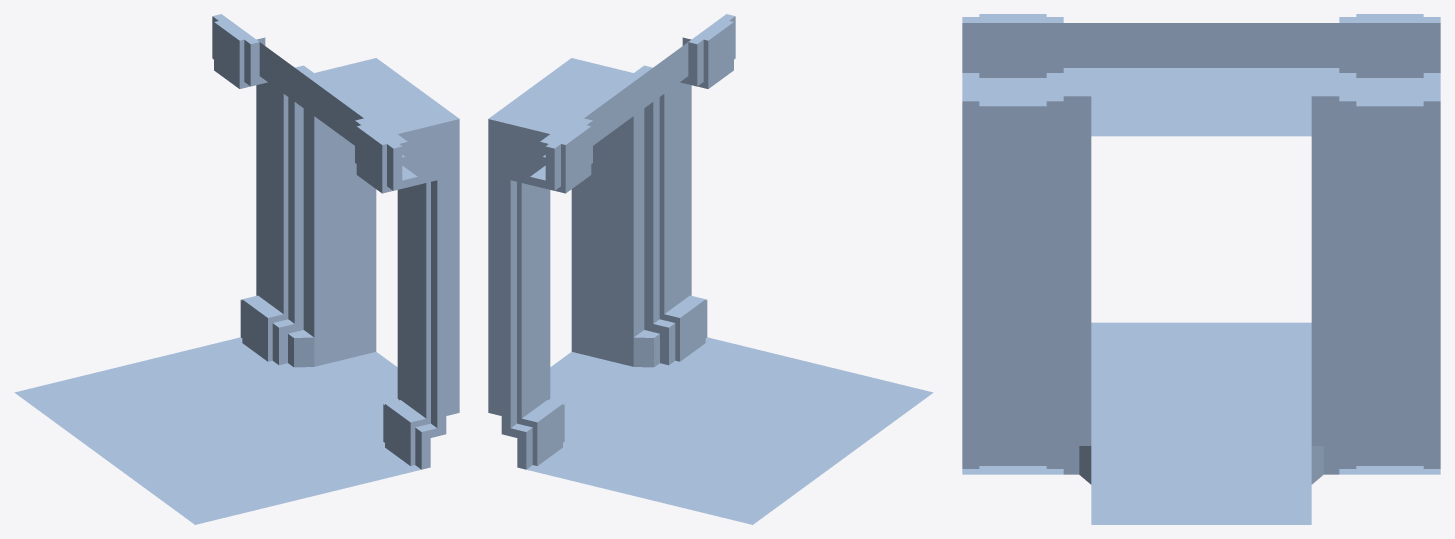
The model's file is Puerta.gltf.
3 views of the same model, side by side, from view 1: azimuth 30°, elevation 25°; view 2: azimuth 150°, elevation 25°; view 3: azimuth 270°, elevation 25° (orthographic). The views are drawn at different scales.
Parts seen in each view (by area): view 1: Puerta; view 2: Puerta; view 3: Puerta.
Part boxes in pixels (x1,y1,x2,y2): Puerta: (14, 14, 459, 524); Puerta: (488, 14, 933, 524); Puerta: (962, 14, 1440, 524).
Bounding box in the file's own units: 2 × 2 × 2.
